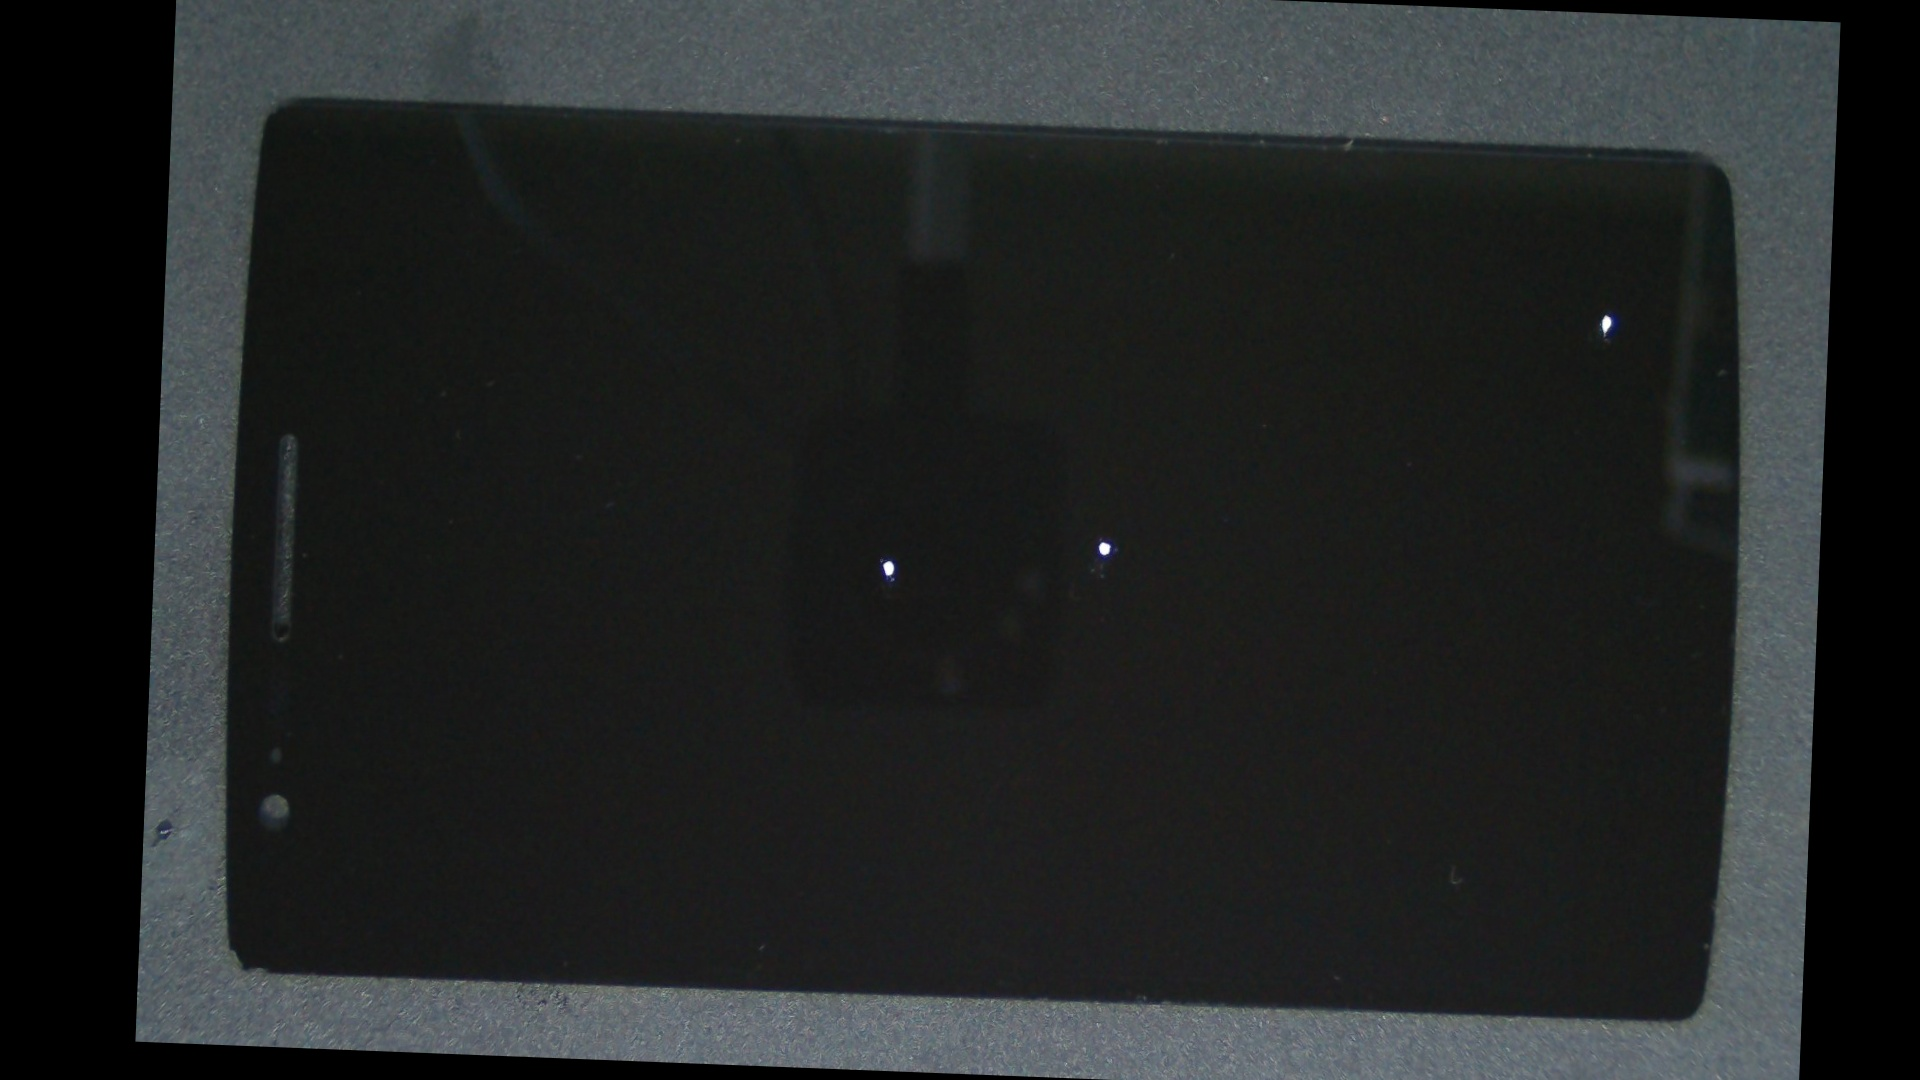oil: (618, 248, 1584, 833), (512, 257, 1266, 860), (881, 133, 1834, 472)
